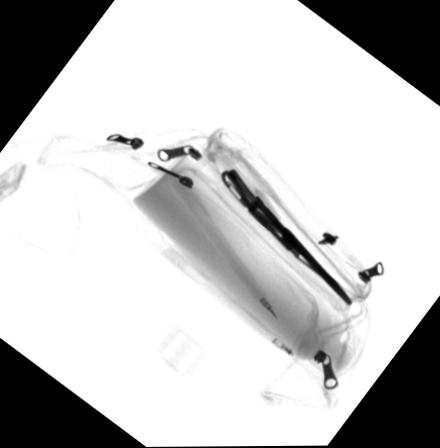Knife: (220, 169, 340, 285)
Scissors: (187, 144, 352, 306)
